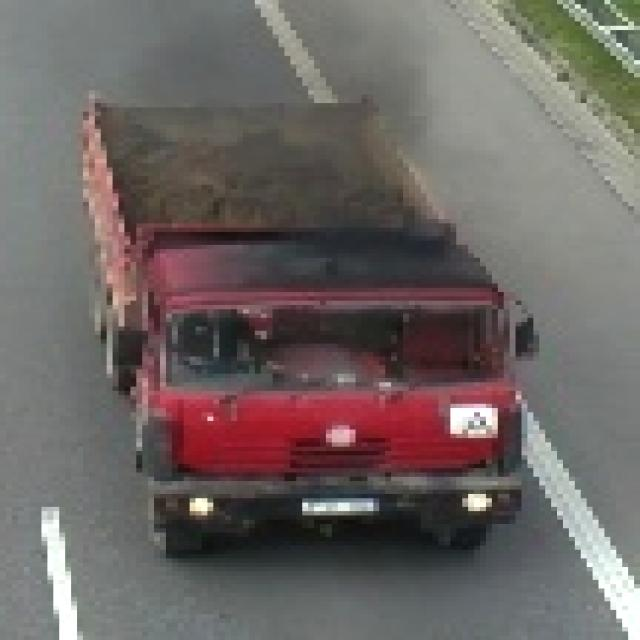truck: (72, 91, 529, 564)
